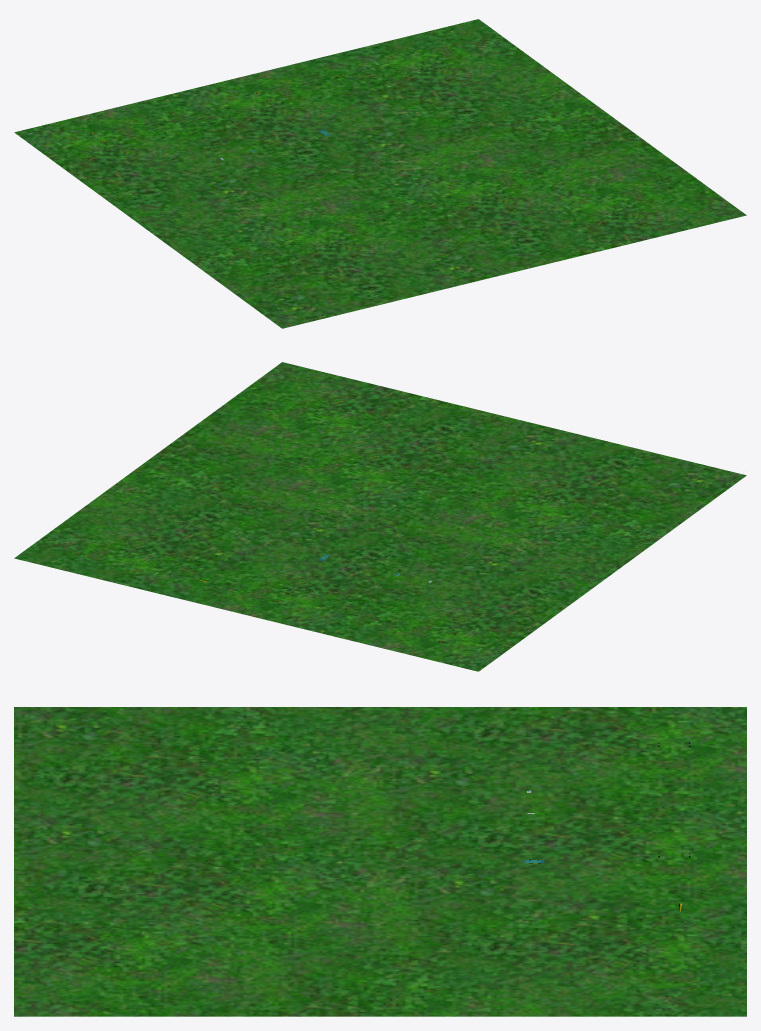
Rendered from TournamentScene.fbx.
3 views of the same model, one above another, from view 1: azimuth 30°, elevation 25°; view 2: azimuth 150°, elevation 25°; view 3: azimuth 270°, elevation 25° (orthographic). The views are drawn at different scales.
Parts seen in each view (by area): view 1: Cube; view 2: Cube; view 3: Cube.
Boxes of the visible parts, x1,y1,x2,y2 form: Cube: [14, 19, 746, 328]; Cube: [14, 362, 746, 671]; Cube: [14, 707, 746, 1016].
Size of the model in its own units: 20000 by 1367 by 20000.
12 materials, 12 textured.
